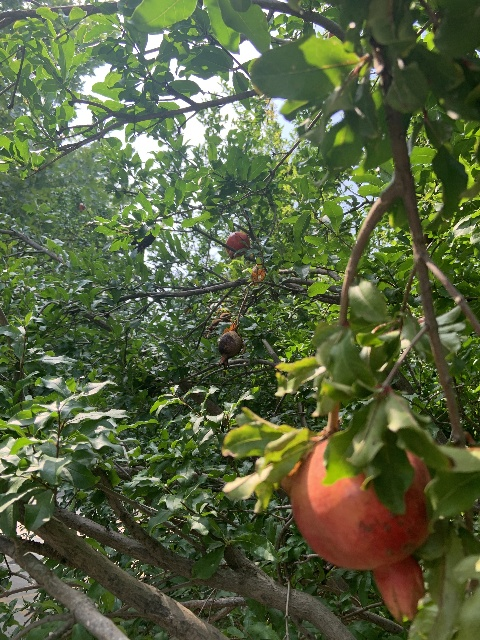ripe: (290, 438, 432, 620), (225, 231, 250, 259)
